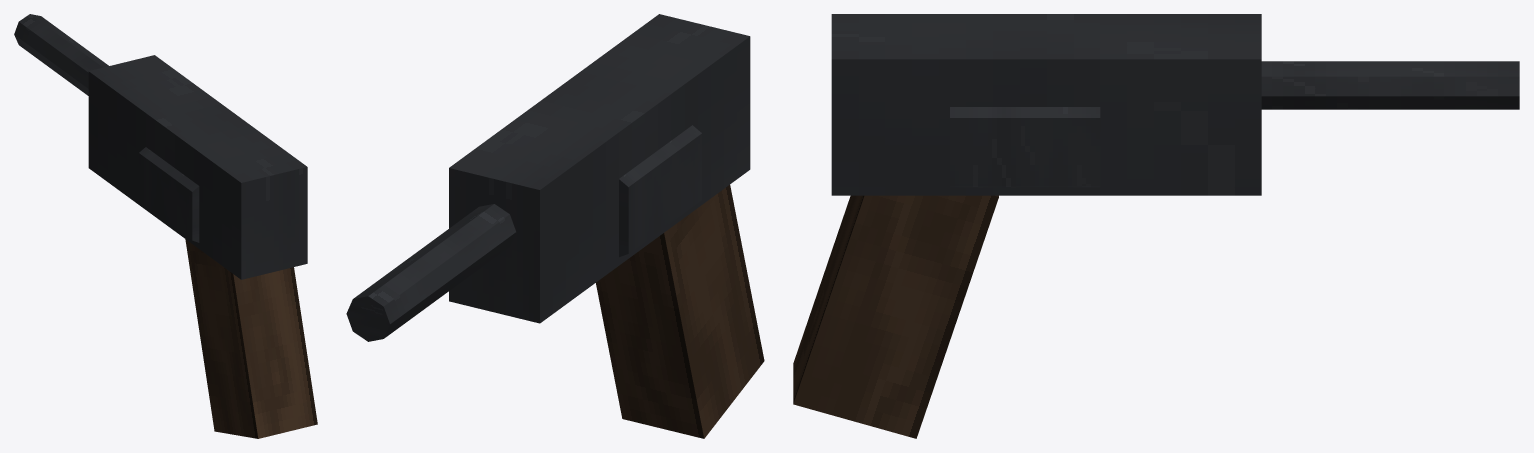
The model's file is gun_revolver.glb.
The picture shows the model from 3 angles, left to right: view 1: azimuth 30°, elevation 25°; view 2: azimuth 150°, elevation 25°; view 3: azimuth 270°, elevation 25°; orthographic projection. The views are drawn at different scales.
Parts seen in each view (by area): view 1: Gun_revolver; view 2: Gun_revolver; view 3: Gun_revolver.
Boxes of the visible parts, x1=… form: Gun_revolver: x1=14, y1=14, x2=317, y2=438; Gun_revolver: x1=346, y1=14, x2=764, y2=438; Gun_revolver: x1=793, y1=14, x2=1519, y2=438.
Bounding box in the file's own units: 0.0606 × 0.196 × 0.3379.
2 materials, 2 textured.
